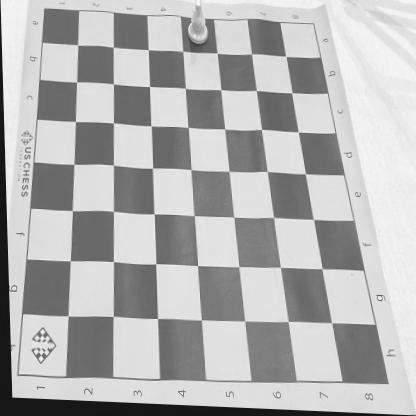white-knight: (186, 0, 209, 48)
